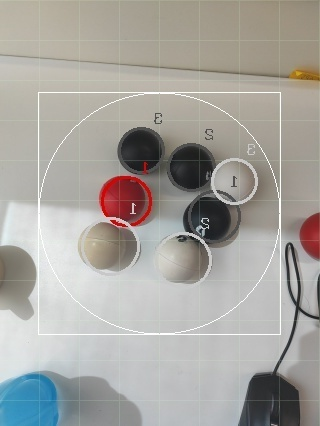Pelota blanca: (77, 220, 143, 272), (77, 377, 145, 425), (154, 230, 212, 286), (0, 244, 39, 320), (210, 156, 260, 206)
Pelota negra: (239, 371, 302, 425), (0, 371, 60, 425), (183, 193, 241, 248), (117, 126, 167, 176), (167, 142, 217, 192)
Pelota roja: (98, 174, 153, 227), (298, 212, 320, 262)
